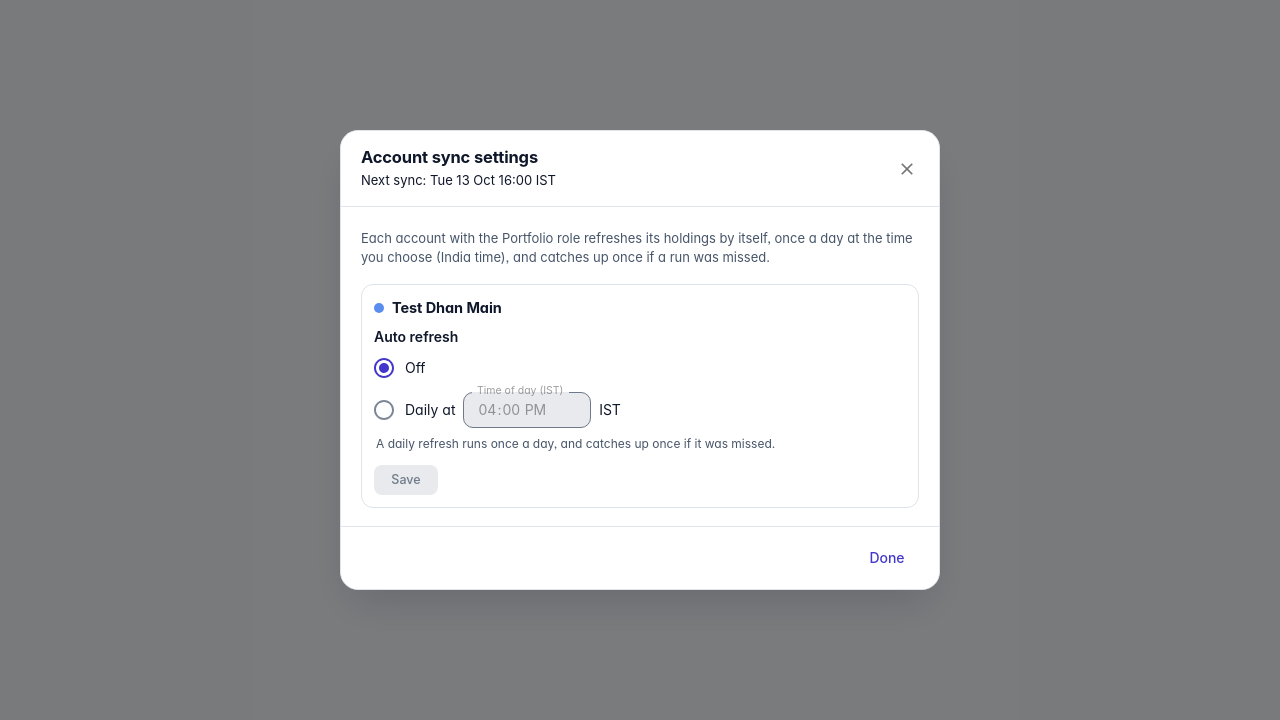
Account sync settings › saves Daily at a time and sends every other setting back as stored, without a bucket or a first import
The image size is (1280, 720).
Click the radio button labelled "Daily at" at point(414, 410), box [372, 398, 456, 422]
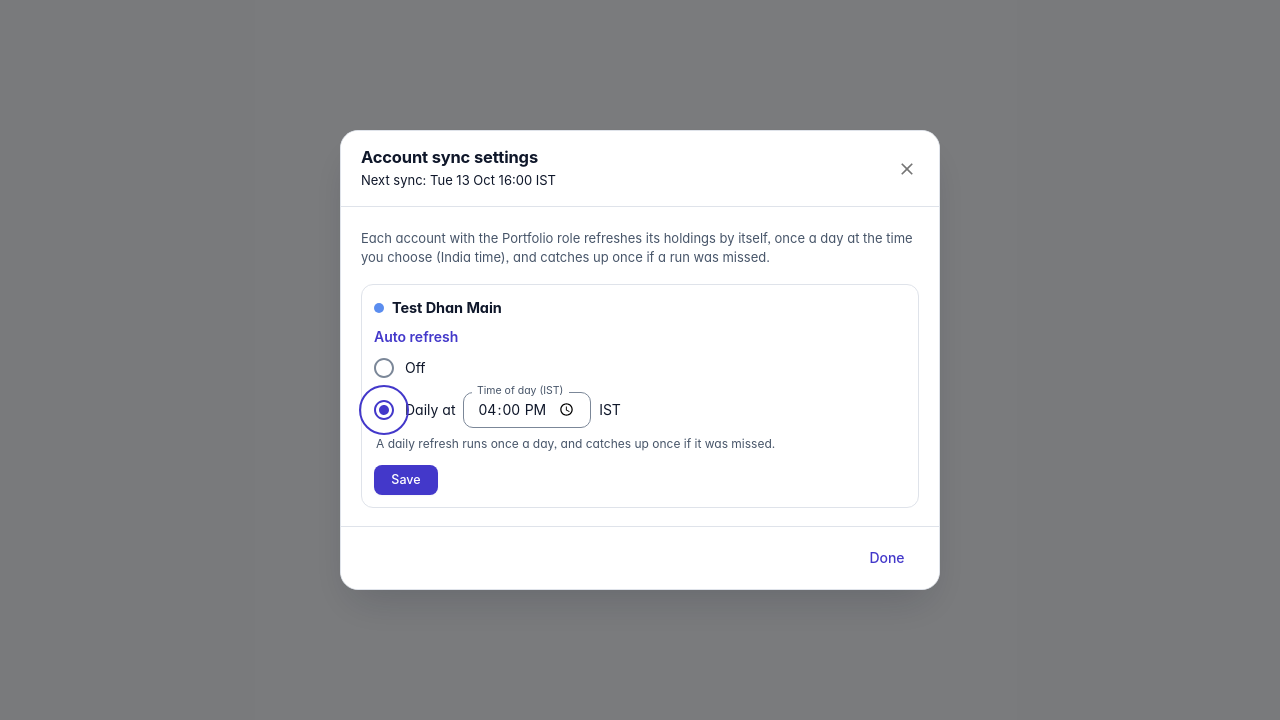
Clear the time field labelled "Time of day (IST)" at point(527, 410), box [464, 392, 591, 428]
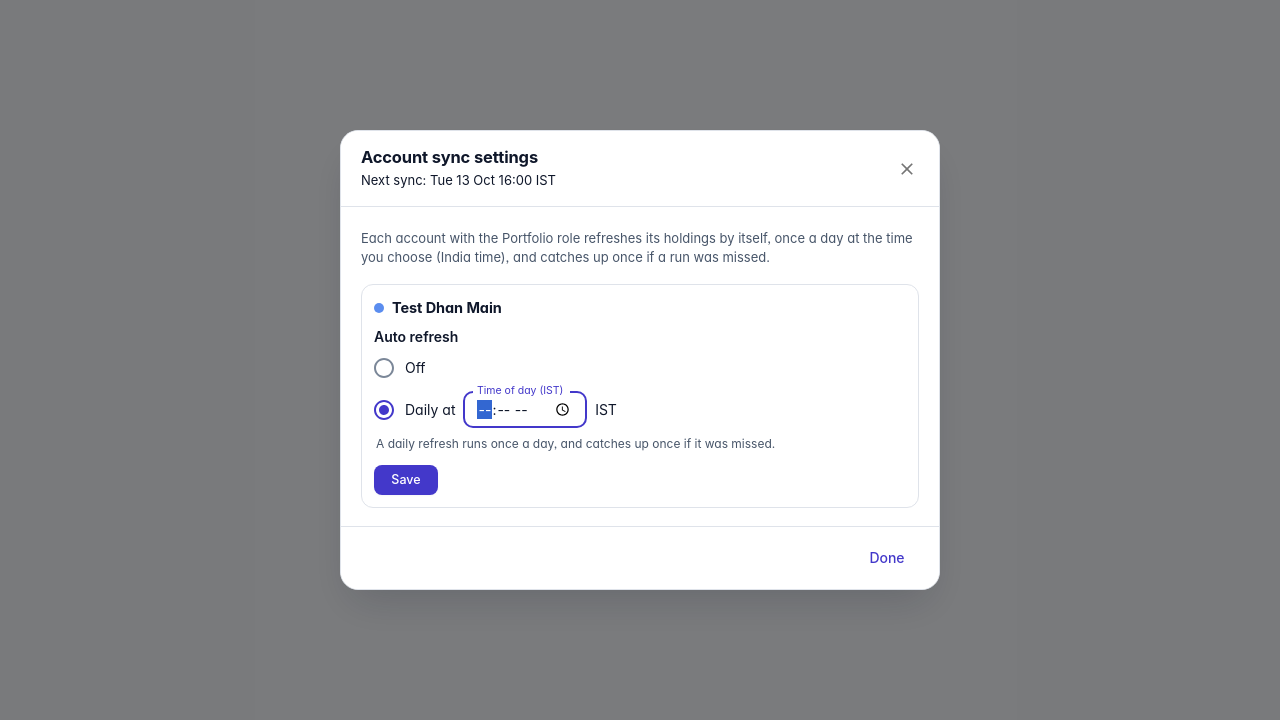
Type "09:45" into the time field labelled "Time of day (IST)" at point(525, 410), box [464, 392, 587, 428]
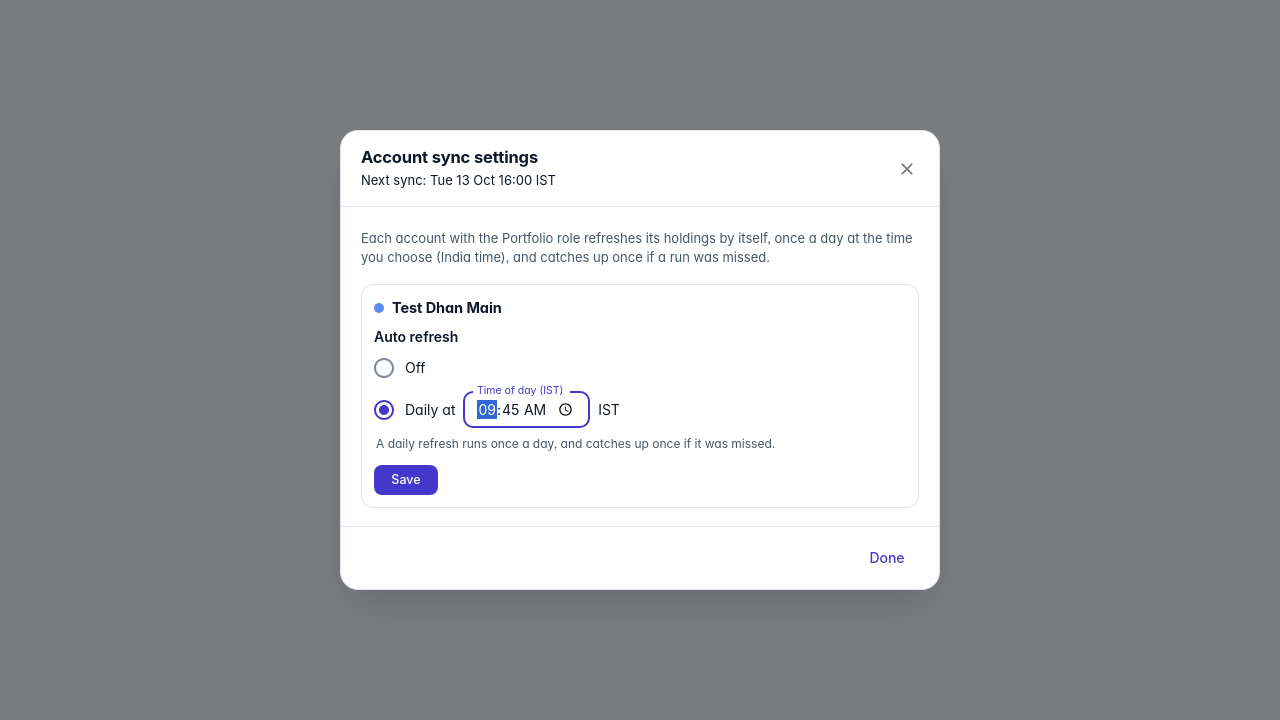
Click the button "Save" at point(406, 480), box [374, 465, 438, 495]
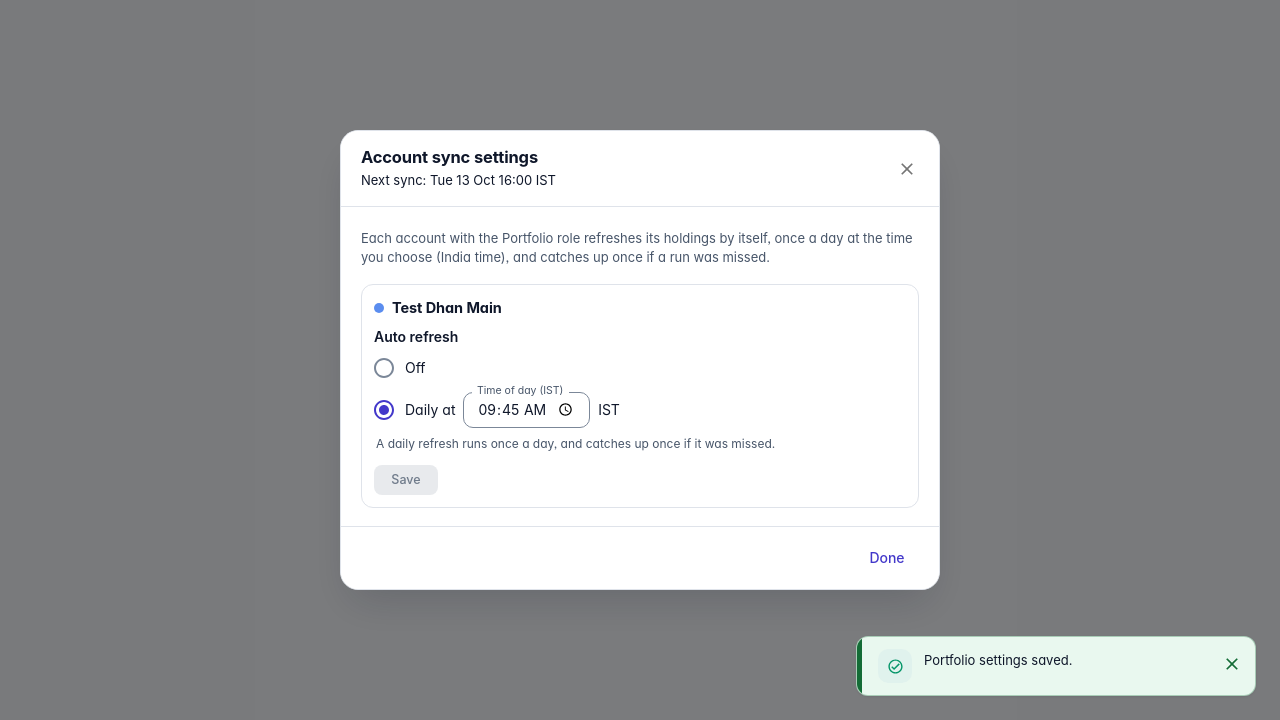
Check: the dialog "Account sync settings" is shown, box [340, 130, 940, 590]
Check: the text "Portfolio settings saved." is shown, box [924, 652, 1072, 668]
